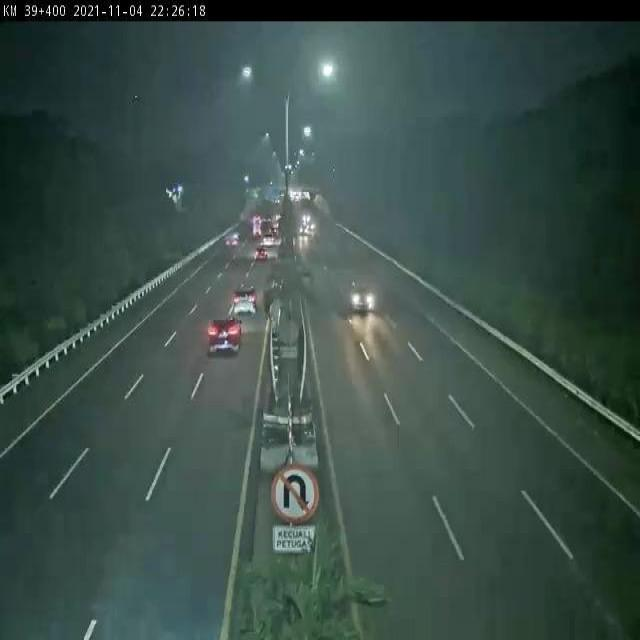car: (199, 306, 252, 358), (341, 276, 384, 331), (236, 269, 262, 327)
